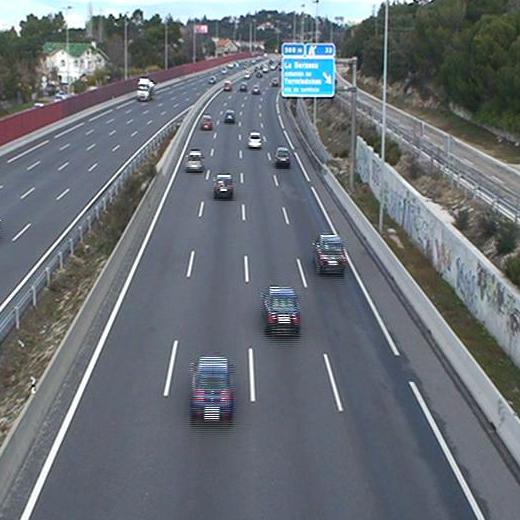car: (188, 356, 234, 422), (259, 286, 304, 332), (313, 235, 349, 271), (212, 174, 234, 195), (184, 149, 204, 167), (273, 146, 291, 164), (247, 131, 260, 145), (200, 115, 213, 129), (224, 108, 237, 121)
